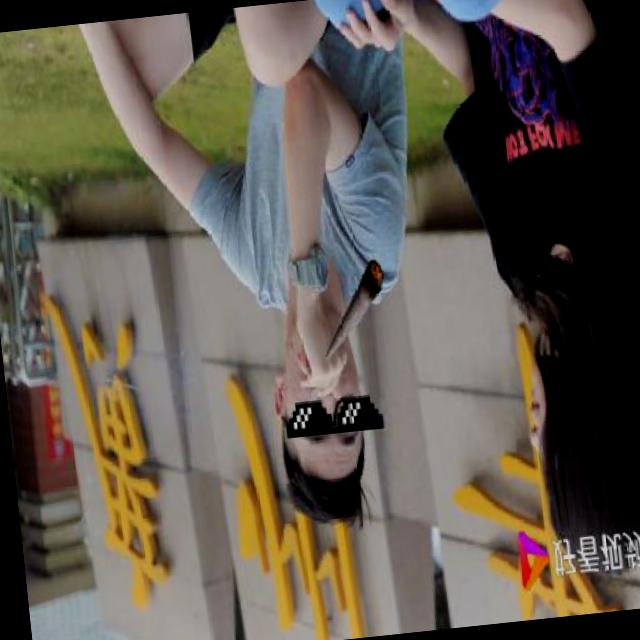smoke: (306, 377, 328, 410)
